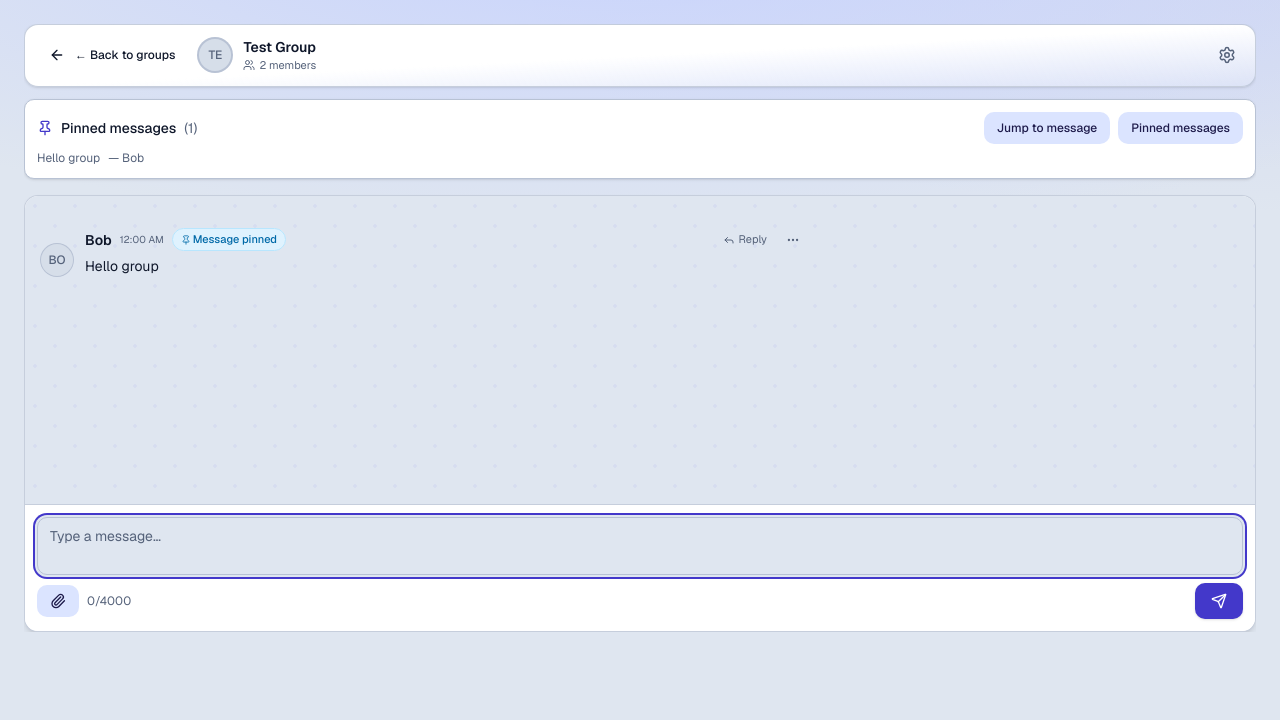
Test: GroupConversationPage — pinned messages › pinned header renders and panel toggles
Check: the element with test id "group-pinned-header" is shown, box [24,98,1256,178]
Click the button with test id "group-pins-toggle". click: (1181, 128)
box: [1118,112,1243,144]
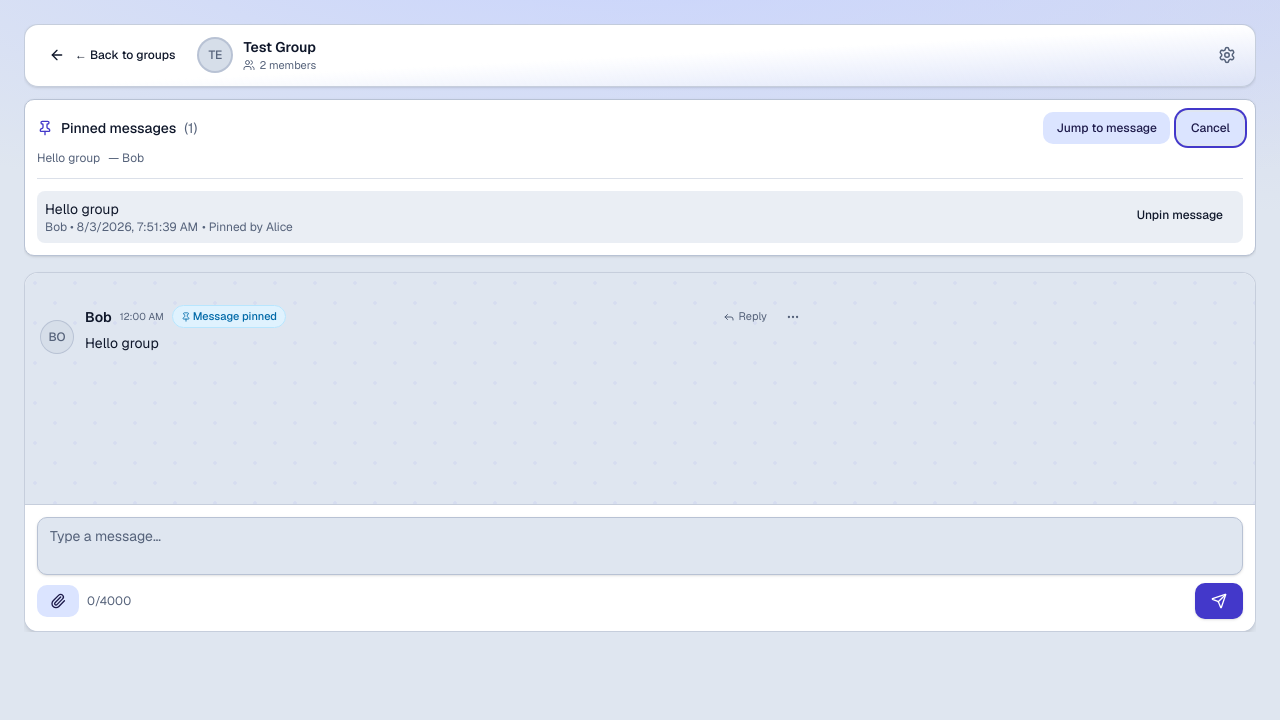
Check: the element with test id "group-pins-panel" is shown, box [37,178,1243,242]
Check: the element with test id "group-pinned-item-m1" is shown, box [37,190,1243,242]
